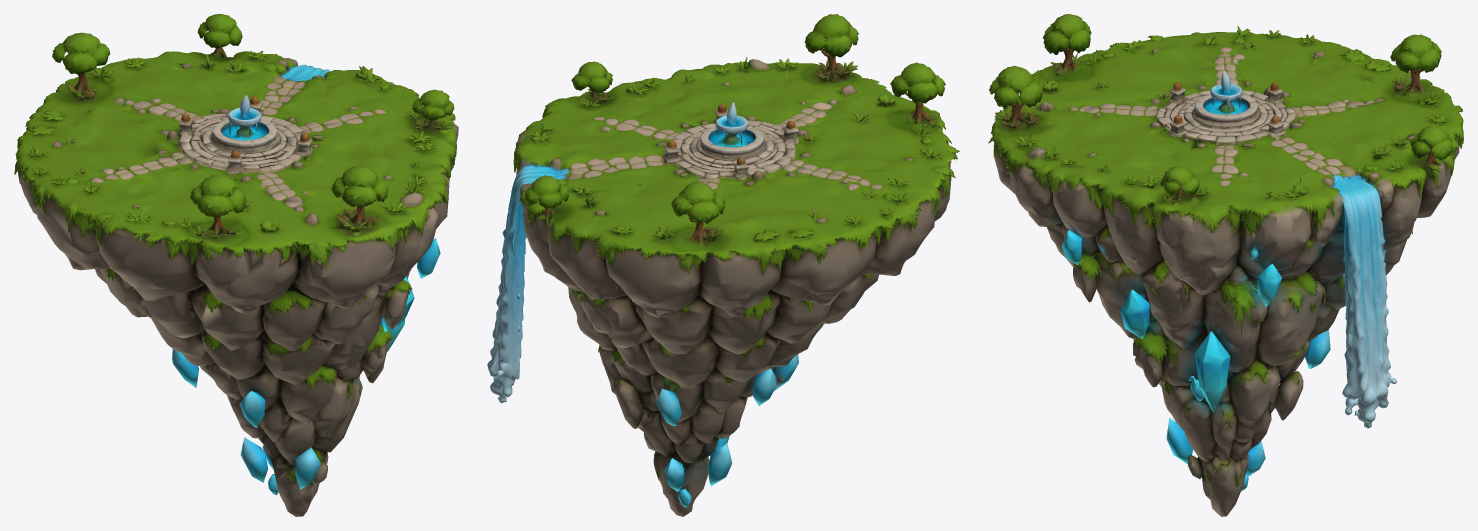
3 renders of one model, left to right at view 1: azimuth 30°, elevation 25°; view 2: azimuth 150°, elevation 25°; view 3: azimuth 270°, elevation 25°, orthographic. The views are drawn at different scales.
Parts seen in each view (by area): view 1: tripo_node_69026125-3a9f-4cfc-a0ae-e8f76b9691be; view 2: tripo_node_69026125-3a9f-4cfc-a0ae-e8f76b9691be; view 3: tripo_node_69026125-3a9f-4cfc-a0ae-e8f76b9691be.
Boxes of the visible parts, left/top/right/bottom form: tripo_node_69026125-3a9f-4cfc-a0ae-e8f76b9691be: left=14, top=14, right=458, bottom=516; tripo_node_69026125-3a9f-4cfc-a0ae-e8f76b9691be: left=487, top=14, right=959, bottom=516; tripo_node_69026125-3a9f-4cfc-a0ae-e8f76b9691be: left=988, top=14, right=1463, bottom=516.
Bounding box in the file's own units: 0.9151 × 0.9659 × 0.9798.
1 material, 1 textured.
